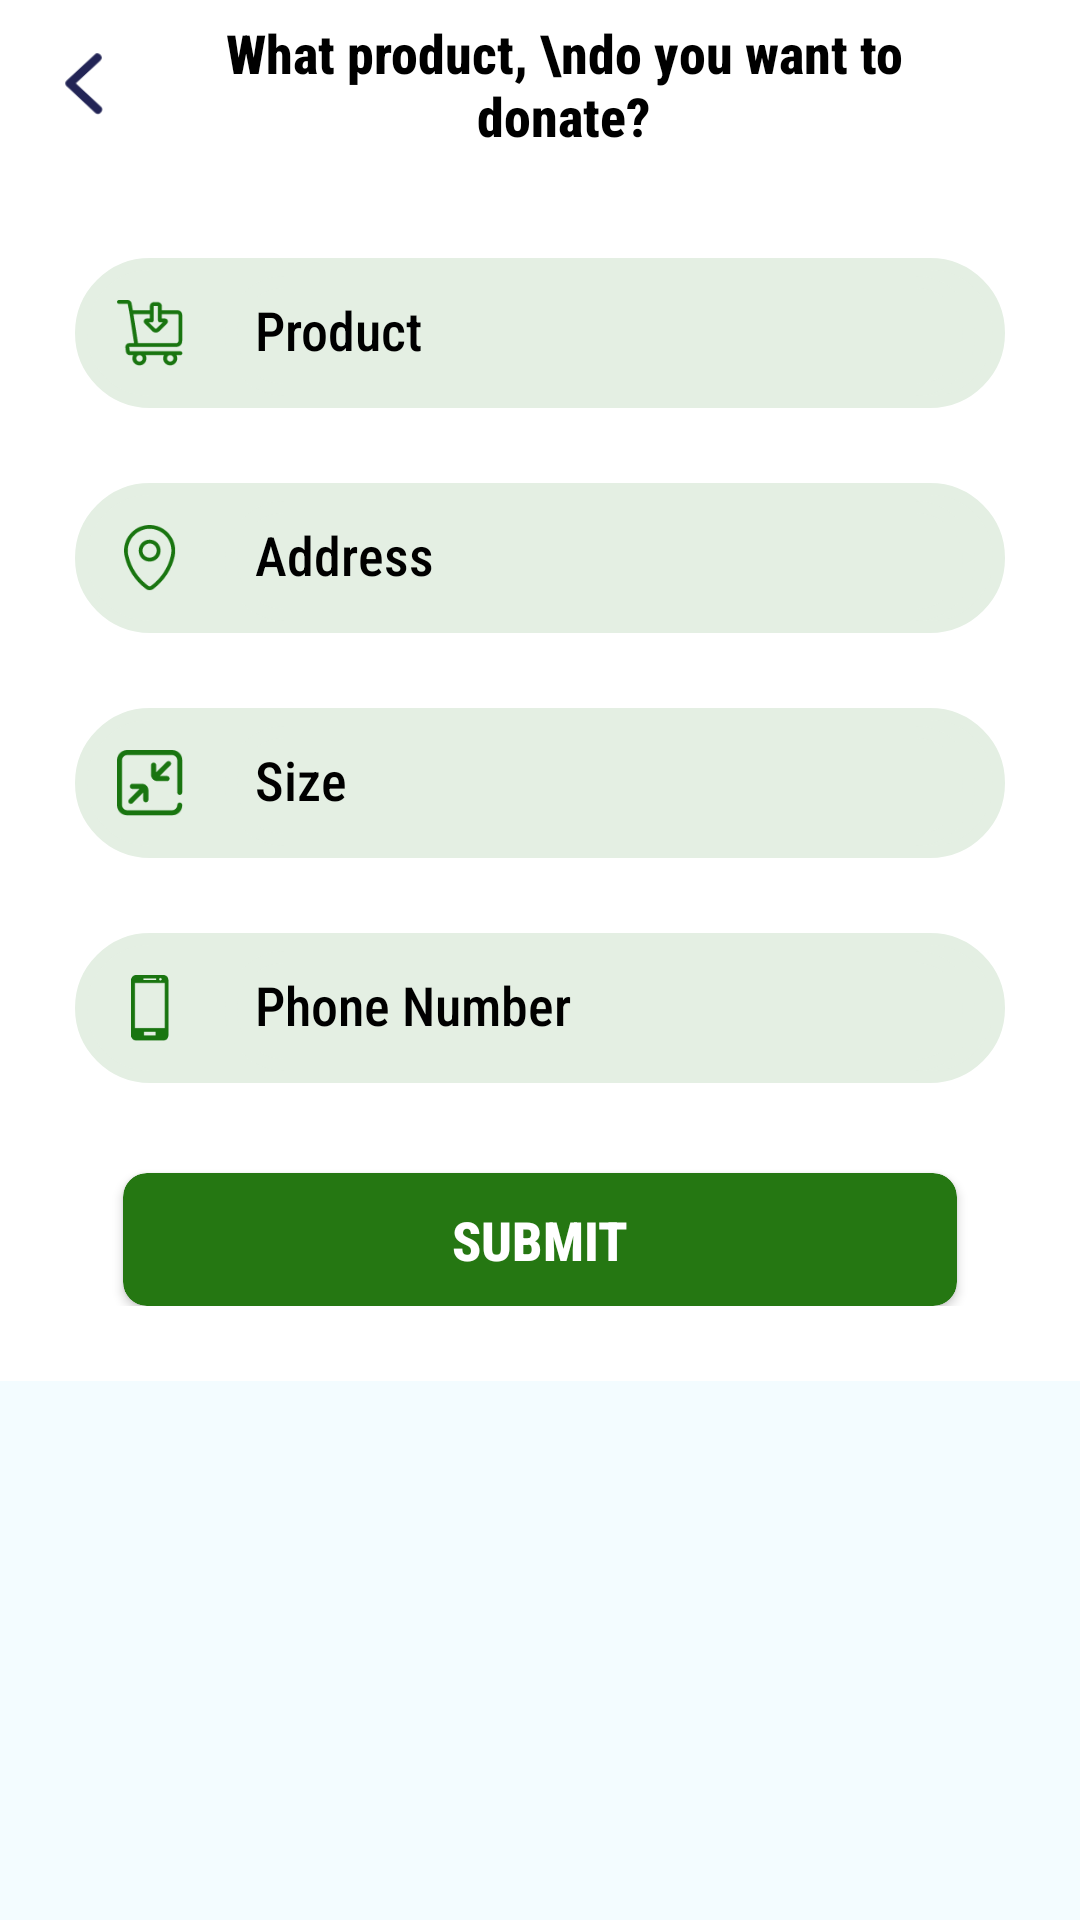

Icons on this 1080w x 1920h Android screen, each with the point to tap as (x=x, y=y):
back: (x=84, y=84)
